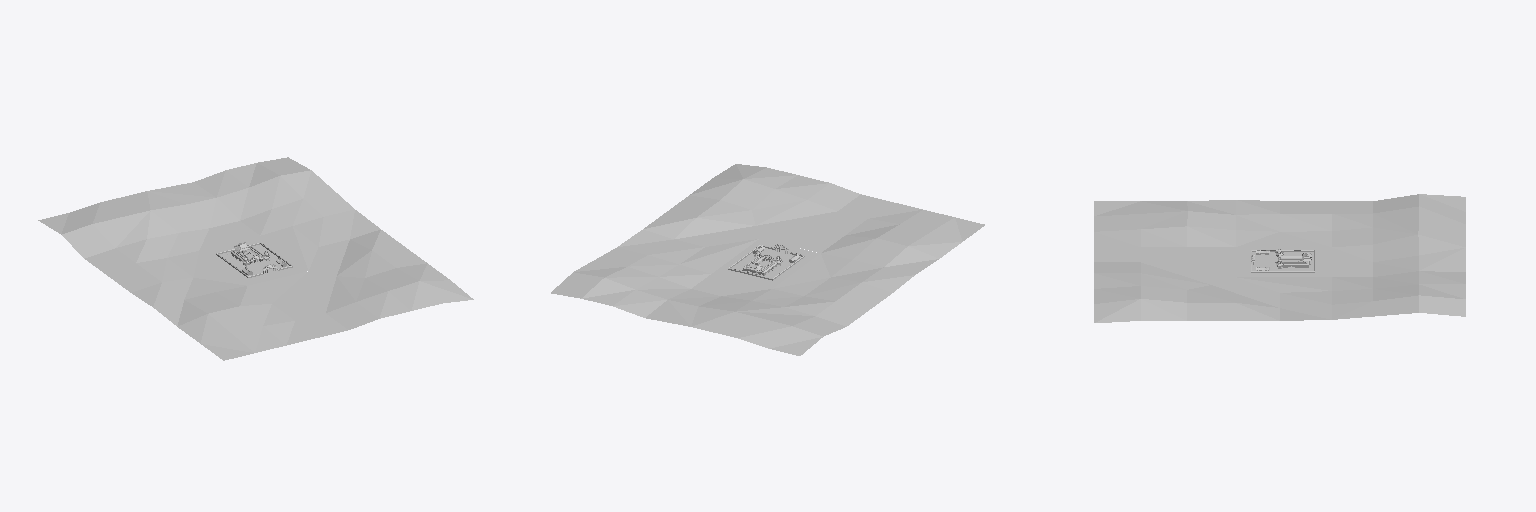
File: terrain-collision.obj
3 renders of one model, left to right at view 1: azimuth 30°, elevation 25°; view 2: azimuth 150°, elevation 25°; view 3: azimuth 270°, elevation 25°, orthographic.
Visible parts, largest first — view 1: 神霊廟　ver0.88_mesh_神霊廟　ver0.88; view 2: 神霊廟　ver0.88_mesh_神霊廟　ver0.88; view 3: 神霊廟　ver0.88_mesh_神霊廟　ver0.88.
Boxes of the visible parts, <box> form: 神霊廟　ver0.88_mesh_神霊廟　ver0.88: <box>38,157,473,360</box>; 神霊廟　ver0.88_mesh_神霊廟　ver0.88: <box>551,164,984,355</box>; 神霊廟　ver0.88_mesh_神霊廟　ver0.88: <box>1094,194,1465,322</box>.
Bounding box in the file's own units: 576 × 28.29 × 740.